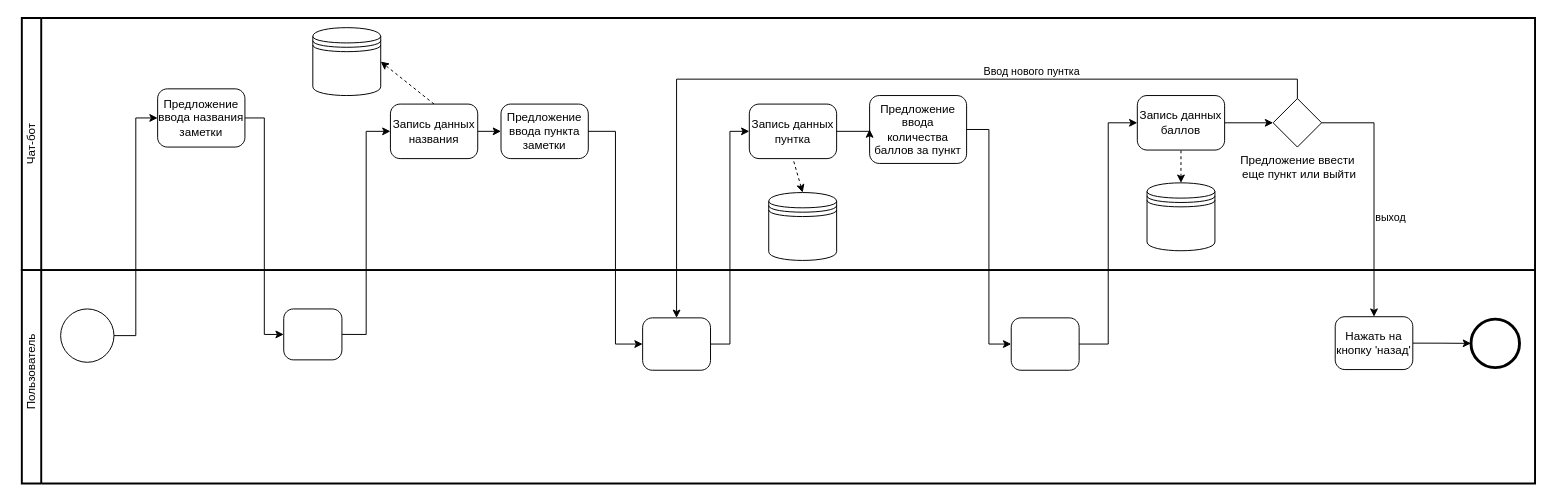
Image size: 1552x501. Some labels were removed from this diagram. Each missing label, with the centre of its shape:
Ввод баллов: the point at 1044,343
Ввод названия: the point at 312,334
Ввод пункта заметки: the point at 676,343
Выбор пункта меню: the point at 87,335
